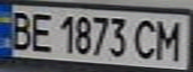1: (54, 11, 75, 54)
3: (106, 15, 133, 58)
7: (90, 14, 112, 57)
8: (72, 12, 93, 55)
B: (3, 8, 36, 52)
C: (130, 16, 163, 61)
E: (24, 9, 57, 54)
M: (151, 17, 187, 62)
